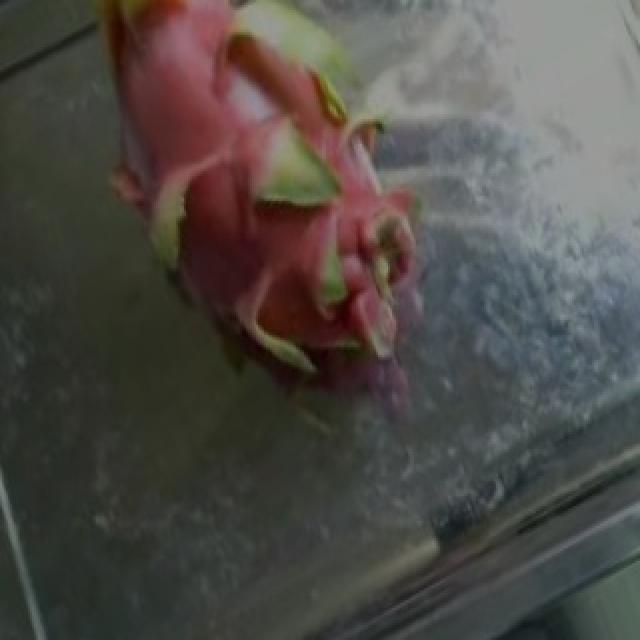fruit: (18, 0, 464, 414)
